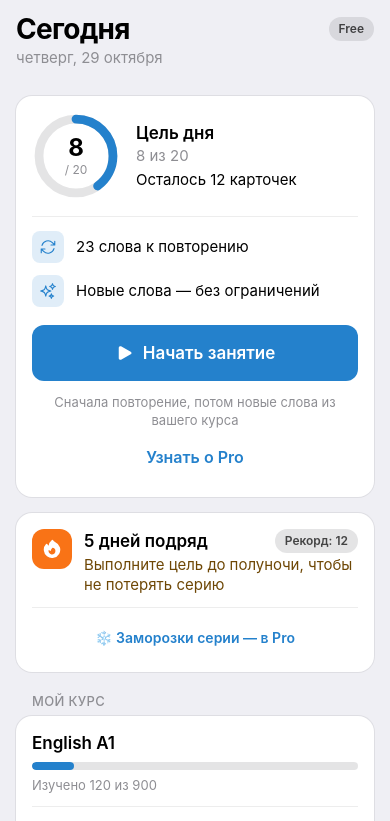
Test: TodayView › session card › disables the button while a session is being opened
Click the button with test id "review-btn".
click(195, 353)  # box [32,325,358,381]
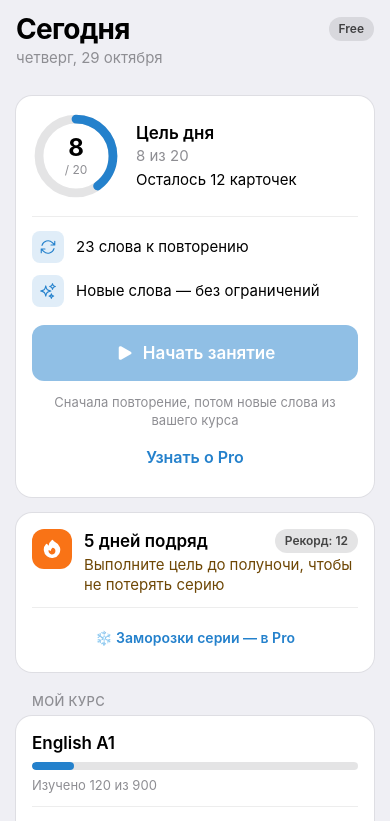
Expected: the button with test id "review-btn" is disabled, [32,325,358,381]
